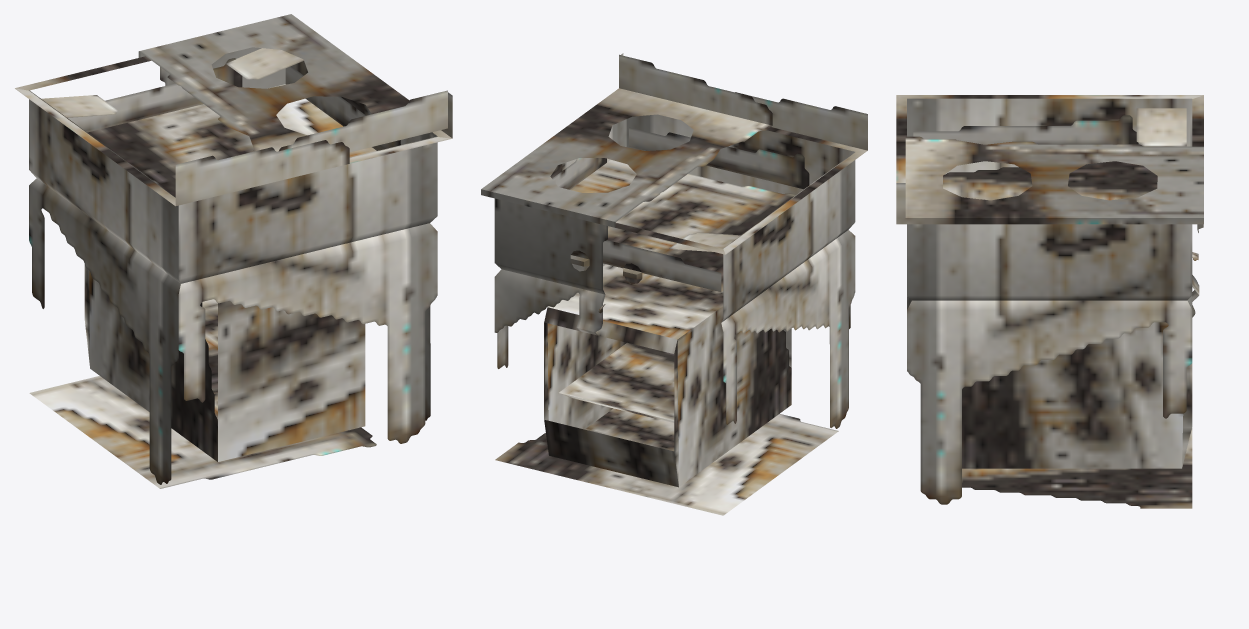
Rendered from gaz_plita.obj.
The picture shows the model from 3 angles, left to right: view 1: azimuth 30°, elevation 25°; view 2: azimuth 150°, elevation 25°; view 3: azimuth 270°, elevation 25°; orthographic projection. The views are drawn at different scales.
Visible parts, largest first — view 1: 0.001; view 2: 0.001; view 3: 0.001.
Boxes of the visible parts, box(x1,y1,x2,y2) form: 0.001: box(15, 14, 452, 488); 0.001: box(481, 53, 867, 515); 0.001: box(896, 95, 1203, 508).
Size of the model in its own units: 0.7117 by 1.23 by 0.7884.
